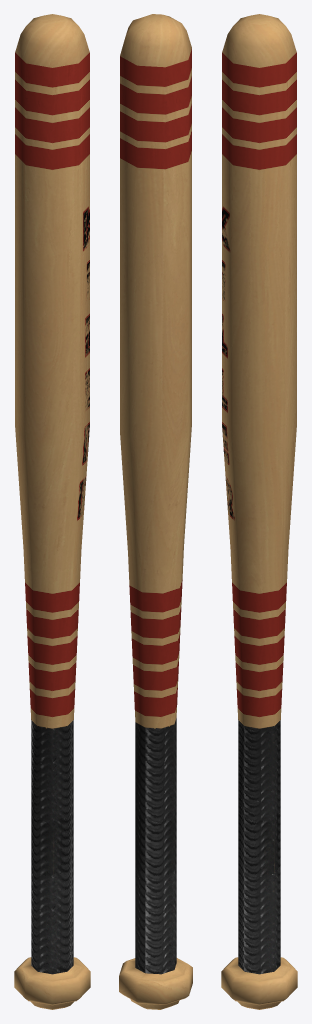
The model's file is BaseballBat_Killer_Wood(Clean).fbx.
3 views of the same model, side by side, from view 1: azimuth 90°, elevation 25°; view 2: azimuth 150°, elevation 25°; view 3: azimuth 270°, elevation 25° (orthographic).
Visible parts, largest first — view 1: BaseballBat_Killer_Wood(Clean); view 2: BaseballBat_Killer_Wood(Clean); view 3: BaseballBat_Killer_Wood(Clean).
Part boxes in pixels (x1=…): BaseballBat_Killer_Wood(Clean): x1=14, y1=14, x2=90, y2=1009; BaseballBat_Killer_Wood(Clean): x1=119, y1=14, x2=192, y2=1009; BaseballBat_Killer_Wood(Clean): x1=221, y1=14, x2=297, y2=1009.
Size of the model in its own units: 5.92 by 84.03 by 5.92.
